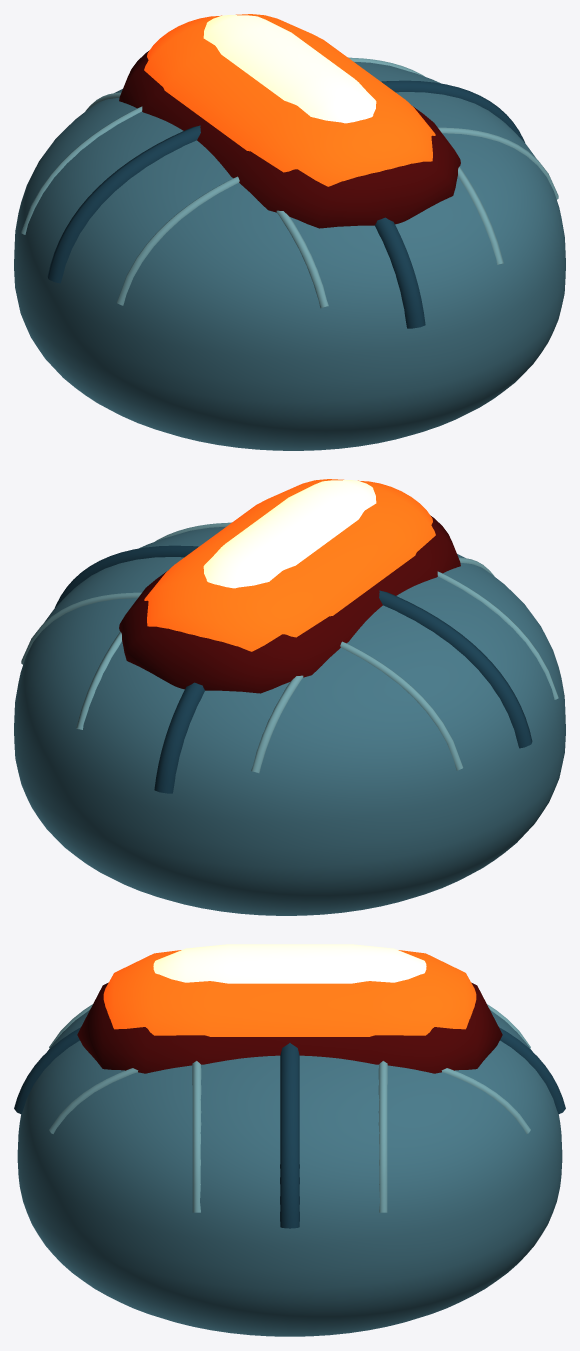
Rendered from pu_laser.glb.
3 renders of one model, top to bottom at view 1: azimuth 30°, elevation 25°; view 2: azimuth 150°, elevation 25°; view 3: azimuth 270°, elevation 25°, orthographic. The views are drawn at different scales.
Parts seen in each view (by area): view 1: orb, rod, rod_rim, rod_core, orb_groove_13, orb_seam_13; view 2: orb, rod, rod_rim, rod_core, orb_groove_13, orb_seam_13; view 3: orb, rod, rod_rim, rod_core, orb_groove_13, orb_seam_13.
Boxes of the visible parts, box(x1,y1,x2,y2) form: orb: box(14, 62, 565, 450); rod: box(144, 14, 435, 186); rod_rim: box(119, 50, 460, 228); rod_core: box(203, 15, 376, 123); orb_groove_13: box(47, 80, 524, 328); orb_seam_13: box(21, 57, 558, 308); orb: box(14, 527, 565, 915); rod: box(144, 479, 435, 651); rod_rim: box(119, 515, 460, 693); rod_core: box(203, 480, 376, 588); orb_groove_13: box(55, 545, 532, 793); orb_seam_13: box(21, 522, 558, 773); orb: box(17, 1010, 562, 1336); rod: box(103, 950, 476, 1036); rod_rim: box(77, 982, 502, 1073); rod_core: box(153, 944, 426, 983); orb_groove_13: box(14, 1027, 565, 1228); orb_seam_13: box(49, 1004, 530, 1212).
Bounding box in the file's own units: 20.88 × 14.08 × 21.27.
